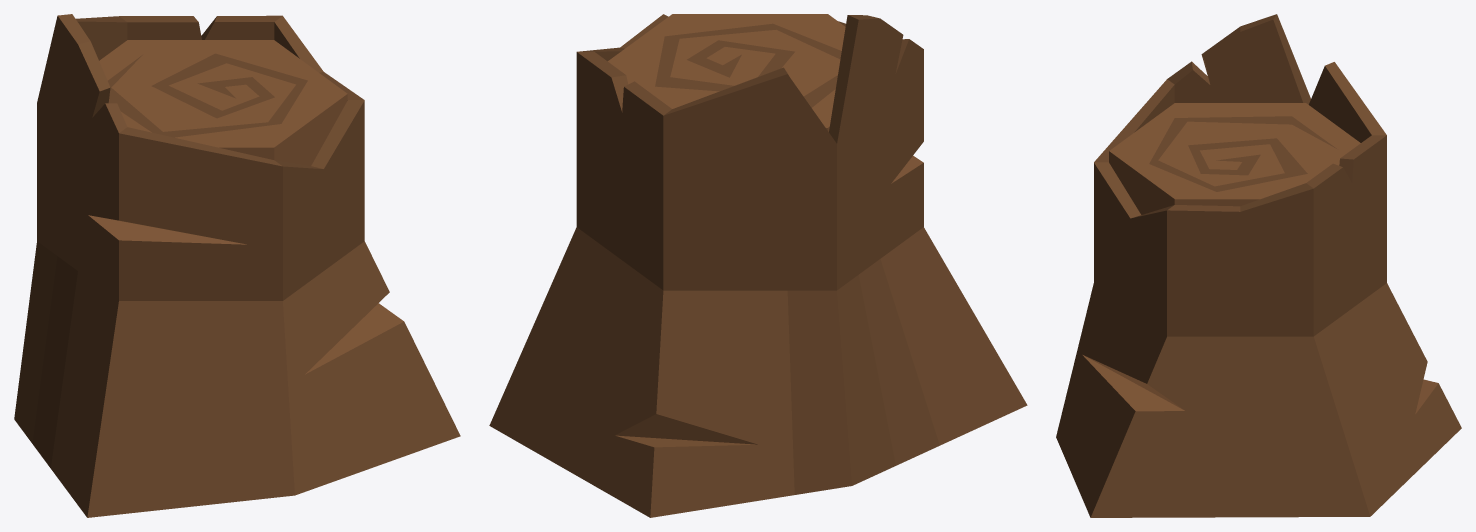
Rendered from Tree_Trunk_4_Light_Brown.fbx.
3 views of the same model, side by side, from view 1: azimuth 30°, elevation 25°; view 2: azimuth 150°, elevation 25°; view 3: azimuth 270°, elevation 25° (orthographic). The views are drawn at different scales.
Parts seen in each view (by area): view 1: Tree_Trunk_4_Light_Brown_Part_1, Tree_Trunk_4_Light_Brown_Part_2; view 2: Tree_Trunk_4_Light_Brown_Part_1, Tree_Trunk_4_Light_Brown_Part_2; view 3: Tree_Trunk_4_Light_Brown_Part_1, Tree_Trunk_4_Light_Brown_Part_2.
Boxes of the visible parts, x1=… form: Tree_Trunk_4_Light_Brown_Part_1: x1=14, y1=14, x2=460, y2=517; Tree_Trunk_4_Light_Brown_Part_2: x1=88, y1=40, x2=403, y2=374; Tree_Trunk_4_Light_Brown_Part_1: x1=489, y1=14, x2=1027, y2=517; Tree_Trunk_4_Light_Brown_Part_2: x1=608, y1=14, x2=923, y2=447; Tree_Trunk_4_Light_Brown_Part_1: x1=1056, y1=14, x2=1461, y2=517; Tree_Trunk_4_Light_Brown_Part_2: x1=1083, y1=103, x2=1438, y2=413.
Bounding box in the file's own units: 129 × 142 × 140.
